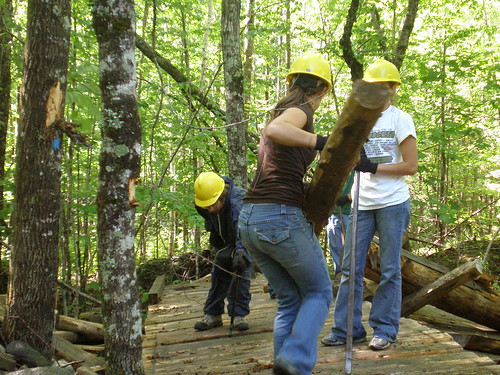person hardhat: (241, 50, 338, 373), (351, 55, 405, 361), (183, 163, 261, 336)
